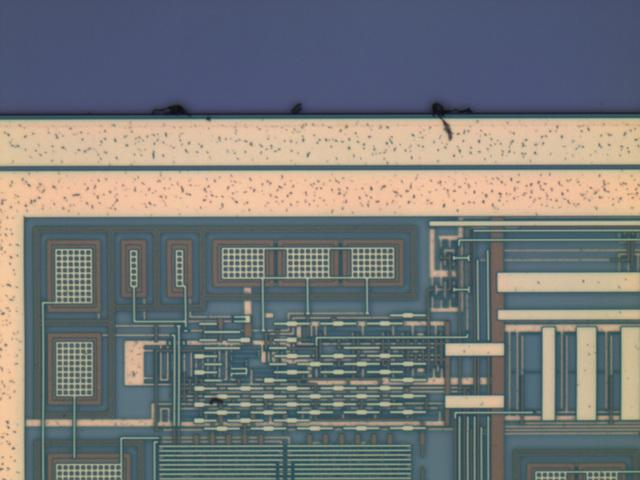PO CONTAMINATION: (143, 93, 487, 415)
